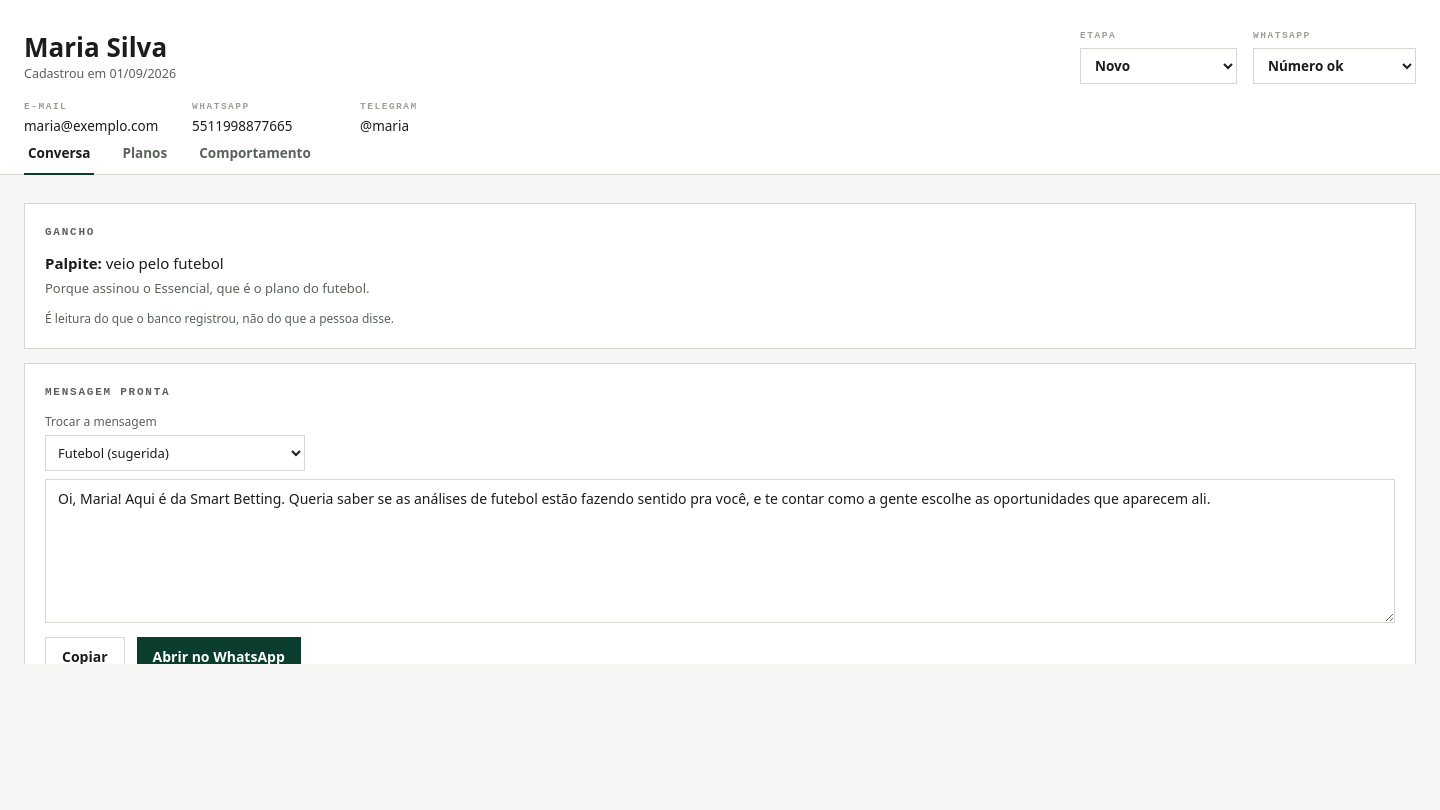
Scenario: Ficha · o cabeçalho e as abas › comportamento vira aba também
Expected: the text "o comportamento" is not shown
Click the tab "Comportamento" at (255, 156), box [195, 136, 315, 175]
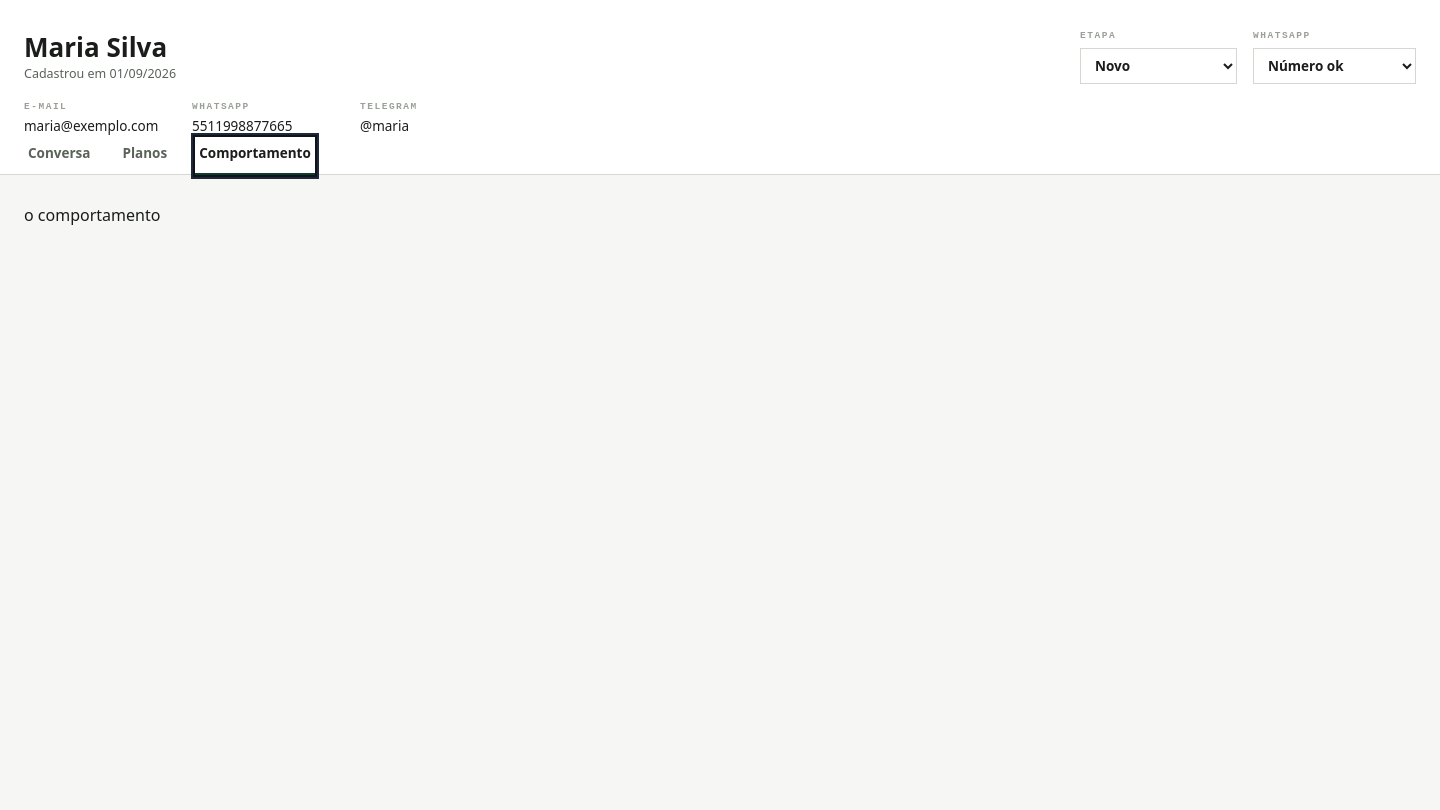
Result: the text "o comportamento" is shown at [24, 204, 160, 226]
